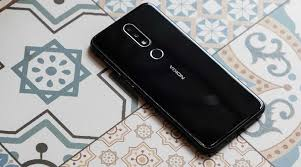nokia: (81, 3, 270, 156)
